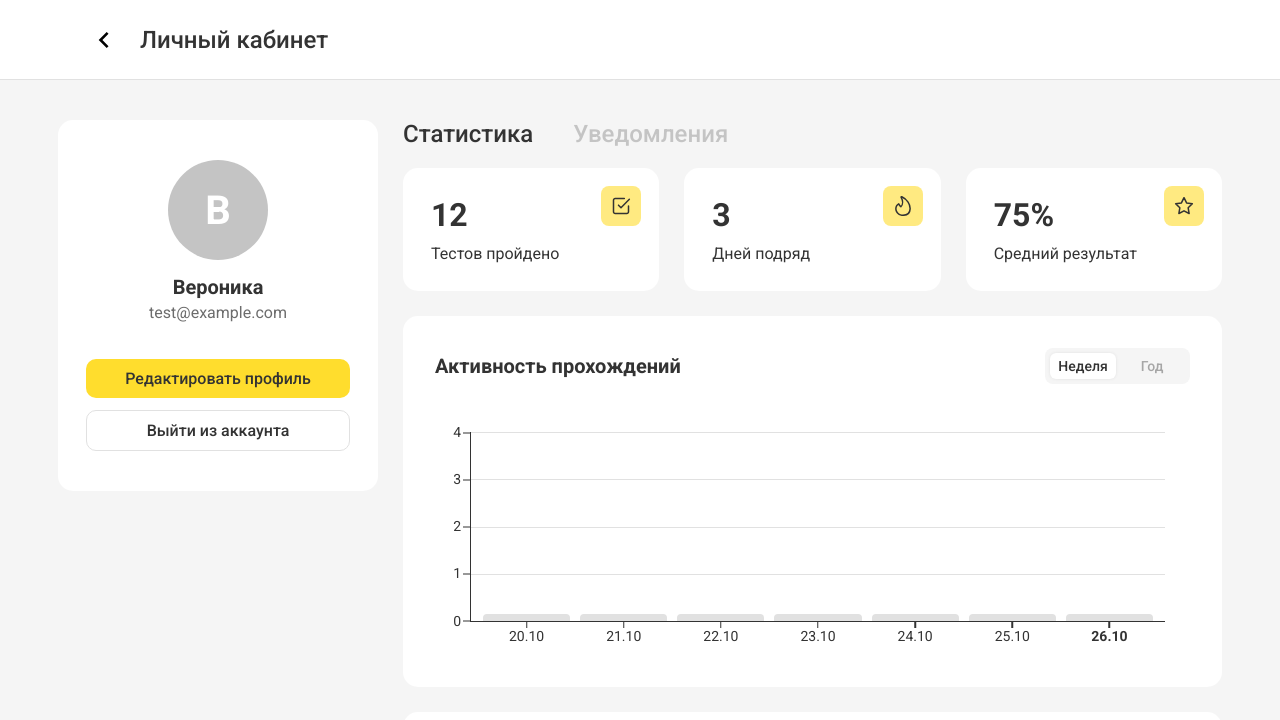
Test case: ProfilePage › tabs › switches to reminders and back to stats
This screenshot has width=1280, height=720.
expect the heading "Вероника" is shown: met, box [173,275,263,299]
Click the button "Уведомления": (651,134) [573,120,728,148]
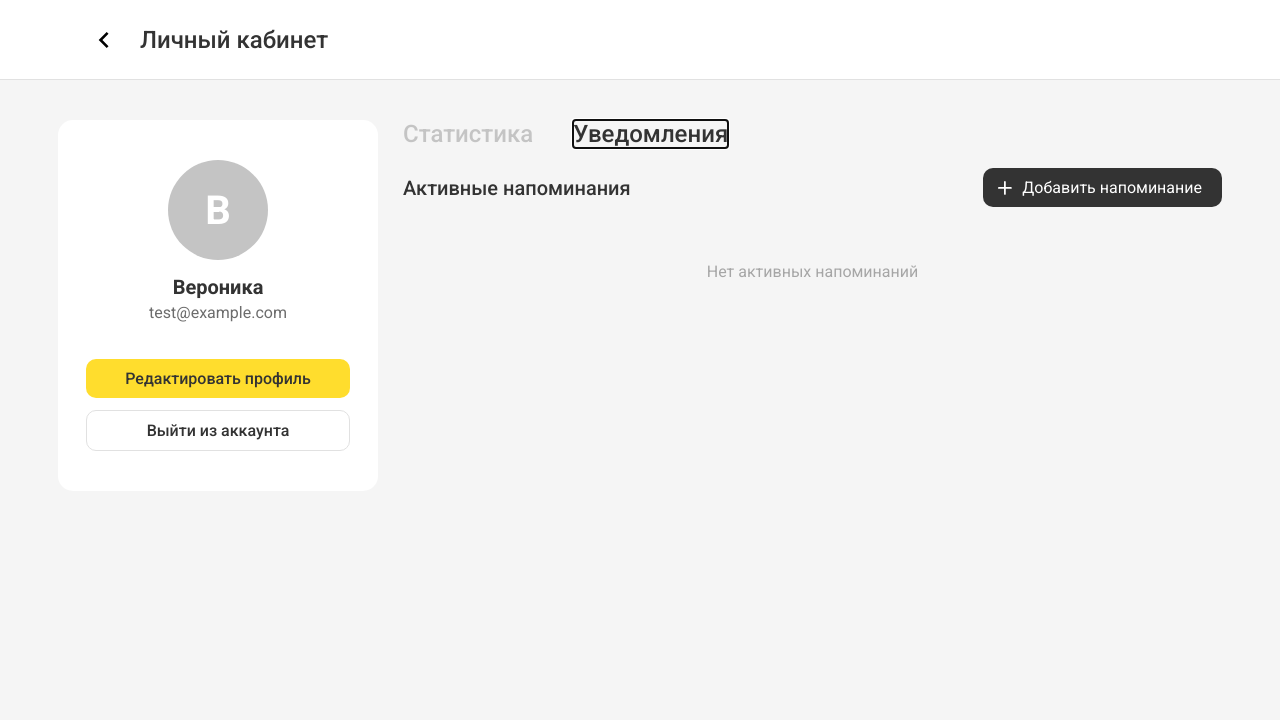
expect the text "Последние попытки" is not shown: met
expect the text "Нет активных напоминаний" is shown: met, box [707,262,918,281]
Click the button "Статистика": (468,134) [403,120,533,148]
(page scrolled)
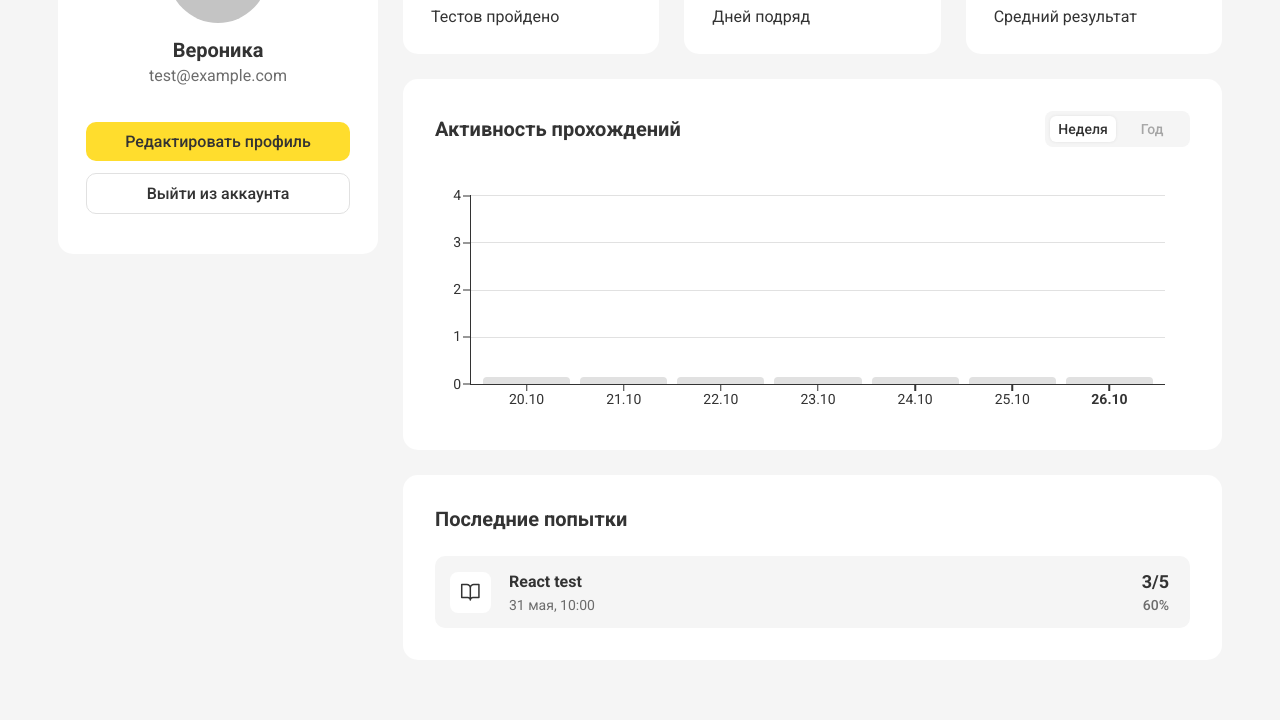
expect the heading "Последние попытки" is shown: met, box [435,507,627,531]
expect the heading "Активные напоминания" is gone: met
